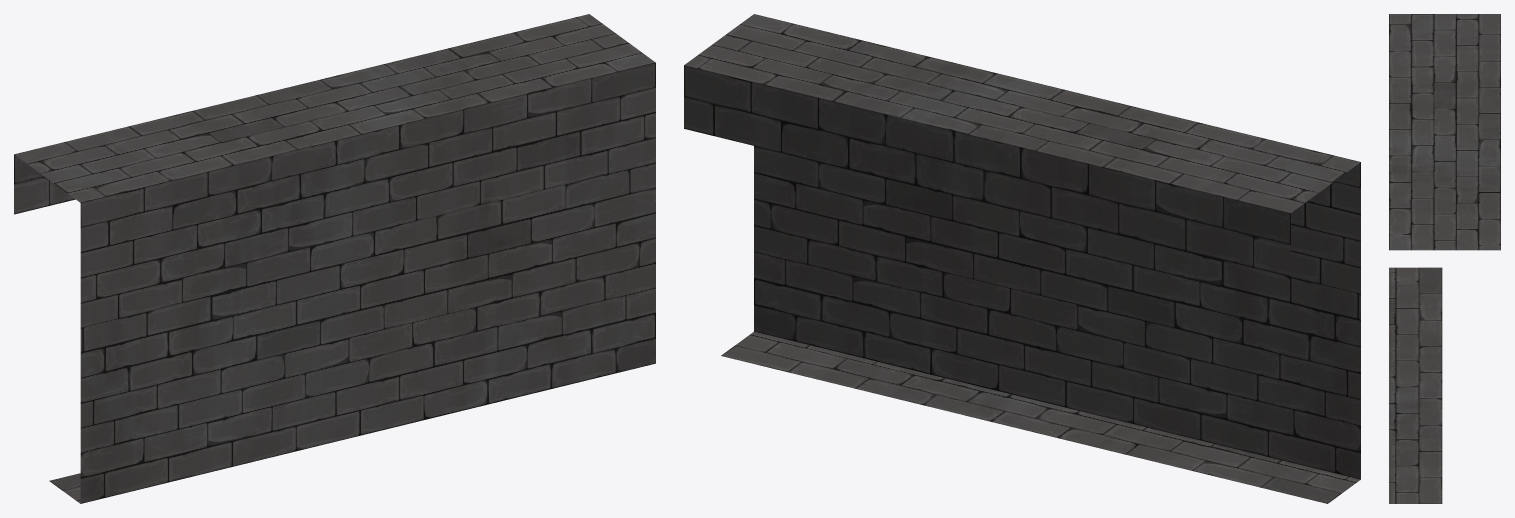
File: Cornice_WornBrick_Center.gltf
The picture shows the model from 3 angles, left to right: view 1: azimuth 30°, elevation 25°; view 2: azimuth 150°, elevation 25°; view 3: azimuth 270°, elevation 25°; orthographic projection. The views are drawn at different scales.
Parts seen in each view (by area): view 1: Cornice_WornBrick_Center; view 2: Cornice_WornBrick_Center; view 3: Cornice_WornBrick_Center.
Boxes of the visible parts, bbox=[...] form: Cornice_WornBrick_Center: bbox=[14, 14, 655, 503]; Cornice_WornBrick_Center: bbox=[684, 14, 1360, 503]; Cornice_WornBrick_Center: bbox=[1389, 14, 1500, 503].
Size of what is drawn, in the model's own units: 2 by 1 by 0.4.
1 material, 1 textured.
